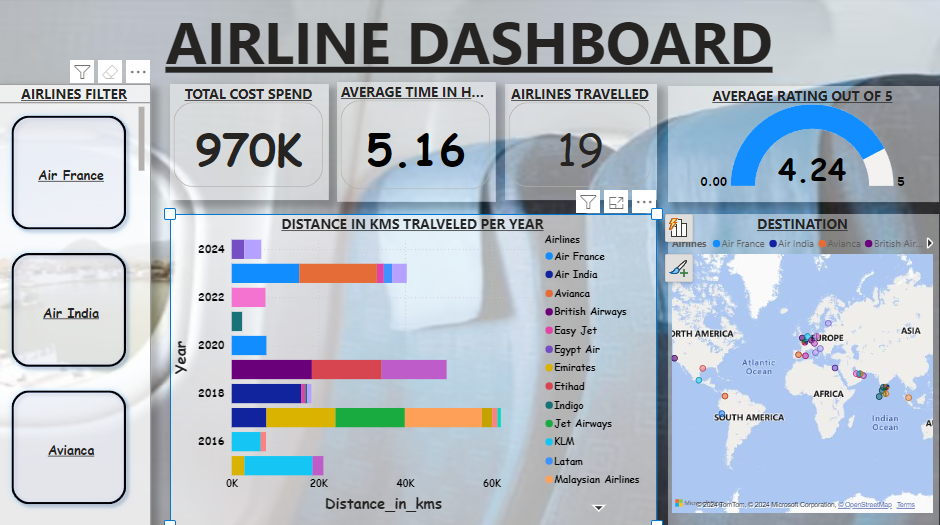

What the dashboard file says about the page in this screenshot:
{"tool":"powerbi","page":{"name":"Page 1","canvas":[1280,720],"ordinal":0},"visuals":[{"type":"cardVisual","title":"TOTAL COST SPEND","fields":{"Data":["Sum(airlines-data - Sheet1.Cost_in_rupees)"]},"box":[232.7,118.4,216.4,157.9],"z":0},{"type":"textbox","box":[0,0,1279.4,121.1],"z":1},{"type":"cardVisual","title":"AIRLINES TRAVELLED ","fields":{"Data":["Count(airlines-data - Sheet1.Airlines)"]},"box":[688.7,118.4,206.9,157.9],"z":2},{"type":"gauge","title":"AVERAGE RATING OUT OF  5","fields":{"Y":["Avg(airlines-data - Sheet1.Rating_on_5)"],"MaxValue":["Max(airlines-data - Sheet1.Rating_on_5)"]},"box":[910.5,121.1,368.8,157.9],"z":3},{"type":"barChart","title":"DISTANCE IN KMS TRALVELED PER YEAR","fields":{"Category":["airlines-data - Sheet1.Year"],"Y":["Sum(airlines-data - Sheet1.Distance_in_kms)"],"Series":["airlines-data - Sheet1.Airlines"]},"box":[232.7,295.3,662.8,424.7],"z":4},{"type":"cardVisual","title":"AVERAGE TIME IN HOURS","fields":{"Data":["Avg(airlines-data - Sheet1.Time_in_hours)"]},"box":[460,115.7,216.4,163.3],"z":5},{"type":"advancedSlicerVisual","title":"AIRLINES FILTER","fields":{"Values":["airlines-data - Sheet1.Airlines"]},"box":[0,118.4,206.9,601.6],"z":6},{"type":"map","title":"DESTINATION","fields":{"Category":["airlines-data - Sheet1.Destination"],"Series":["airlines-data - Sheet1.Airlines"]},"box":[910.5,295.3,368.8,424.7],"z":7}]}

Visuals, with their boxes in screenshot pixels (x1, y1, x2, y2):
"TOTAL COST SPEND" cardVisual: rect(179, 68, 334, 181)
textbox: rect(12, 0, 930, 70)
"AIRLINES TRAVELLED " cardVisual: rect(506, 68, 655, 181)
"AVERAGE RATING OUT OF  5" gauge: rect(666, 70, 930, 183)
"DISTANCE IN KMS TRALVELED PER YEAR" barChart: rect(179, 195, 655, 499)
"AVERAGE TIME IN HOURS" cardVisual: rect(342, 66, 498, 183)
"AIRLINES FILTER" advancedSlicerVisual: rect(12, 68, 161, 499)
"DESTINATION" map: rect(666, 195, 930, 499)
